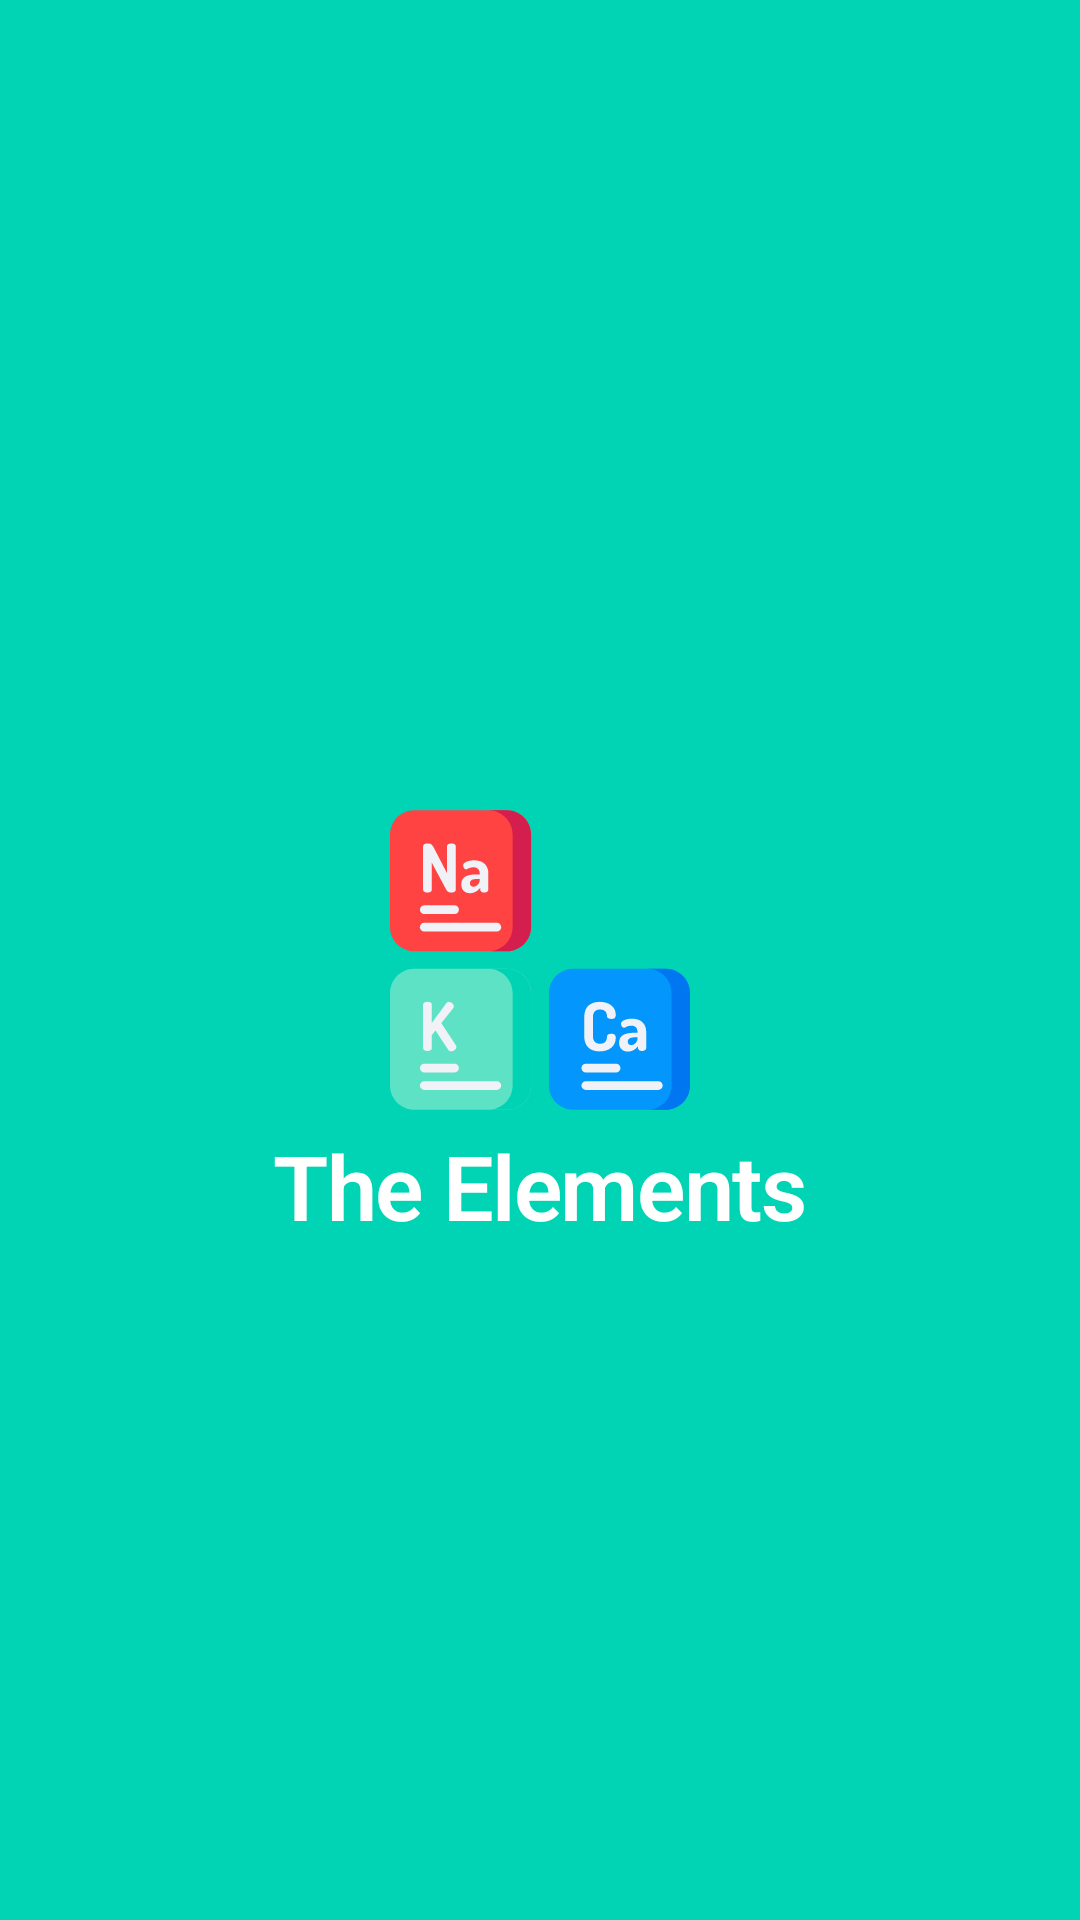

Where icons sit on this 1080×1920 app screen, as [x1, y1, x2, y2]:
periodic table: [390, 810, 690, 1110]
